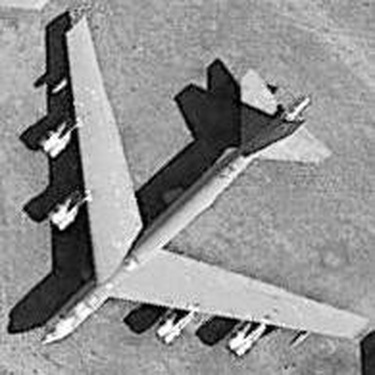airplane: (17, 8, 370, 370)
